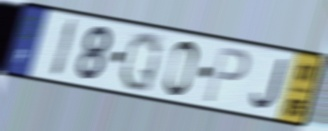0: (164, 39, 198, 98)
8: (76, 24, 112, 83)
I: (49, 15, 81, 81)
J: (250, 57, 288, 112)
P: (203, 44, 251, 106)
Q: (118, 29, 164, 95)
